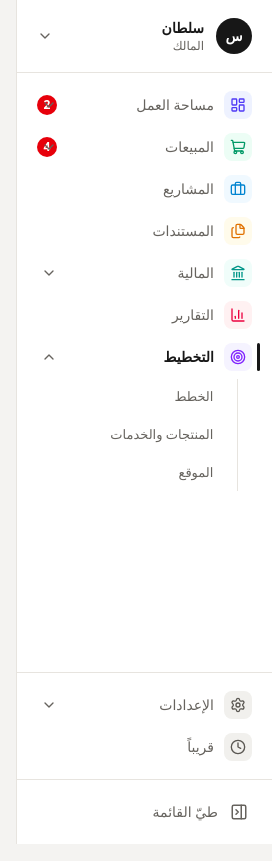
Test: Sidebar › keeps the products, website and settings pages under their sections
Click the button named "فتح الإعدادات" at (49, 705), box [33,689,65,721]
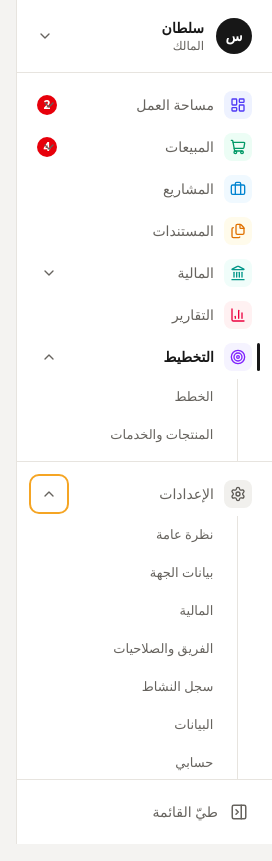
Check: the link "نظرة عامة" is shown, box [156,525,213,543]
Check: the link "بيانات الجهة" is shown, box [150,563,213,581]
Check: the link "الفريق والصلاحيات" is shown, box [113,639,213,657]
